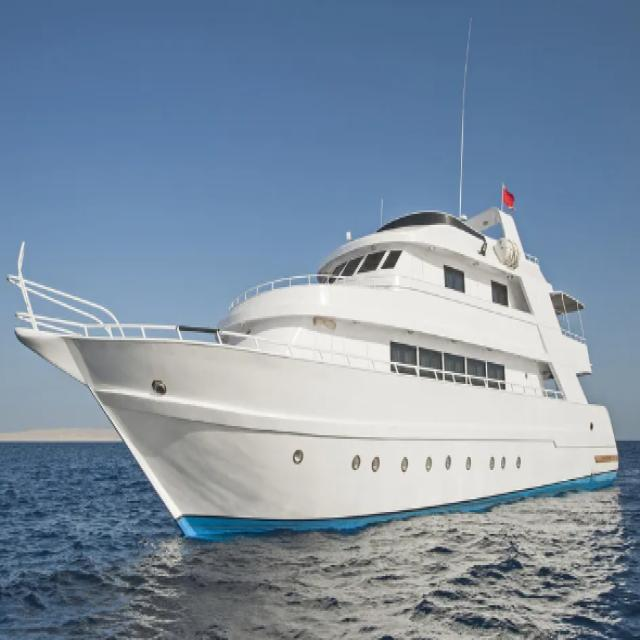houseboat: (0, 150, 640, 539)
